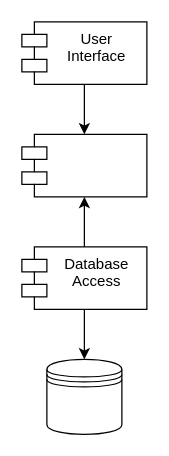
This 169x456 diagram has some shape labels left out. The shapes that lost their labels are listed below. From the top down, each one's centre as x and y in pixels, then its label:
At [84,165]: "Business Logic".
At [84,396]: "Database".
